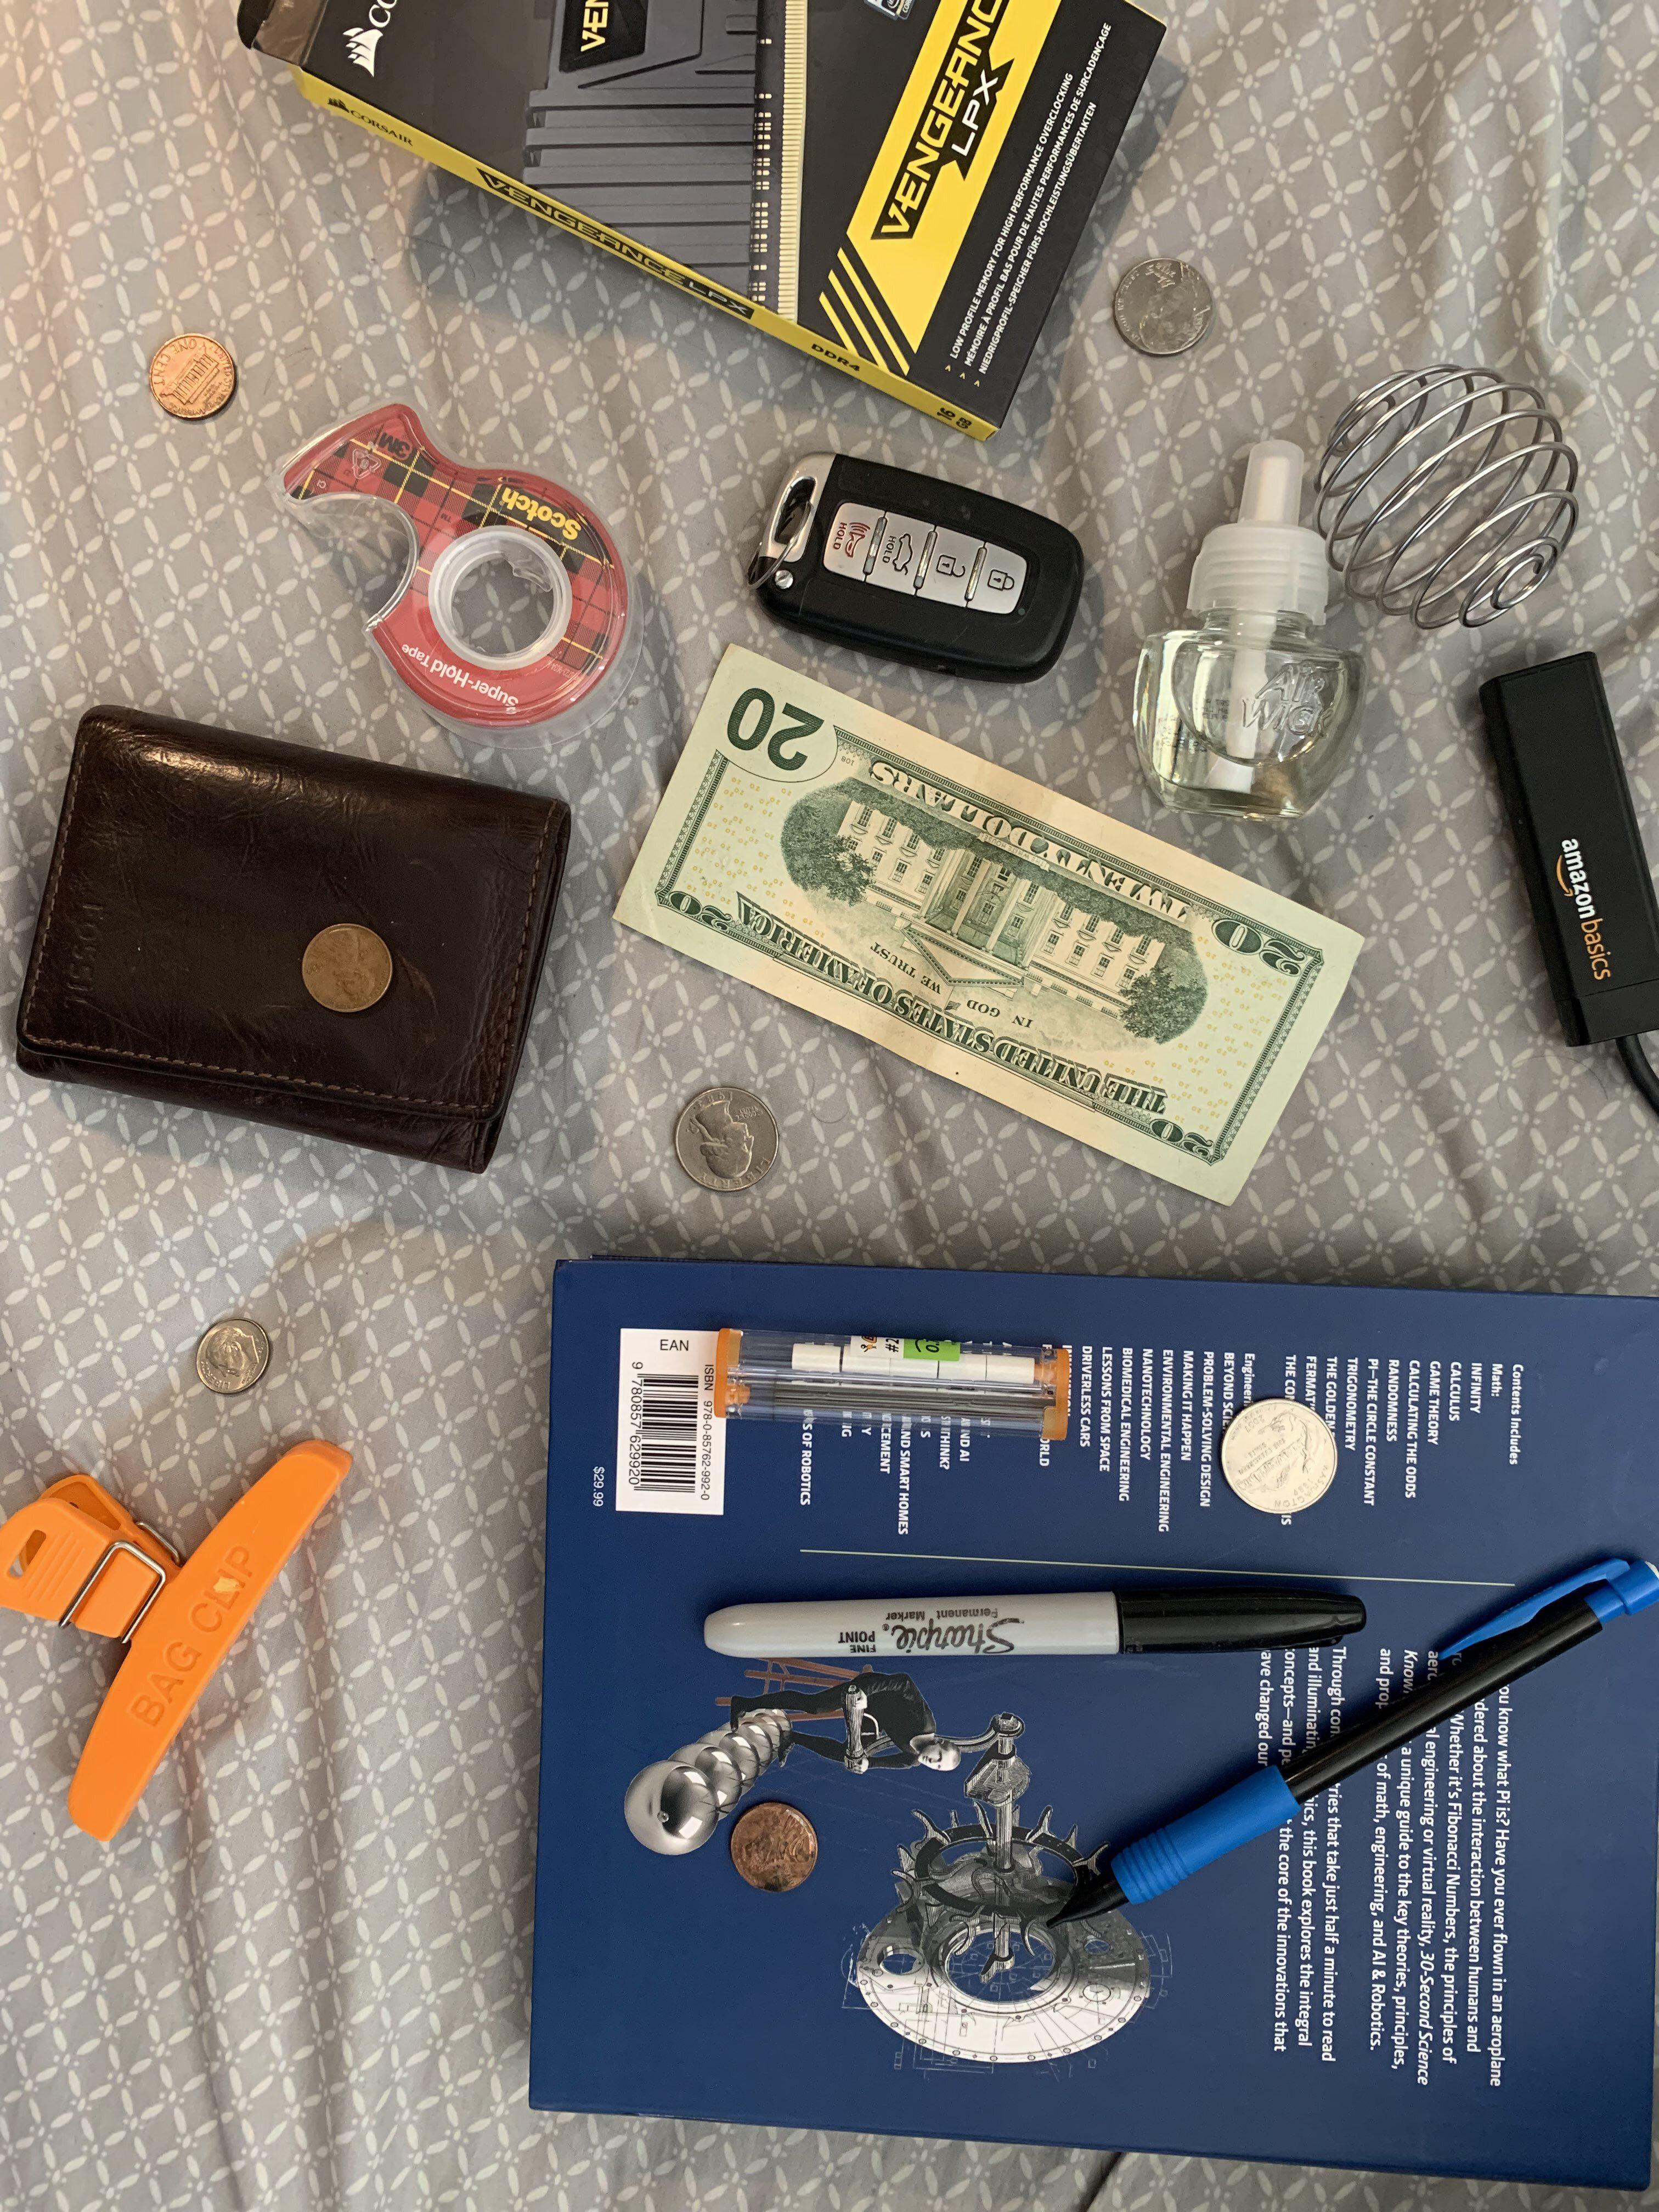Dime: (183, 1305, 281, 1404)
Nickel: (1098, 228, 1229, 378)
Penny: (267, 904, 429, 1045), (706, 1780, 847, 1916), (117, 310, 254, 434)
Quarter: (1195, 1378, 1359, 1527), (645, 1073, 805, 1207)
TwentyBill: (601, 632, 1378, 1214)
